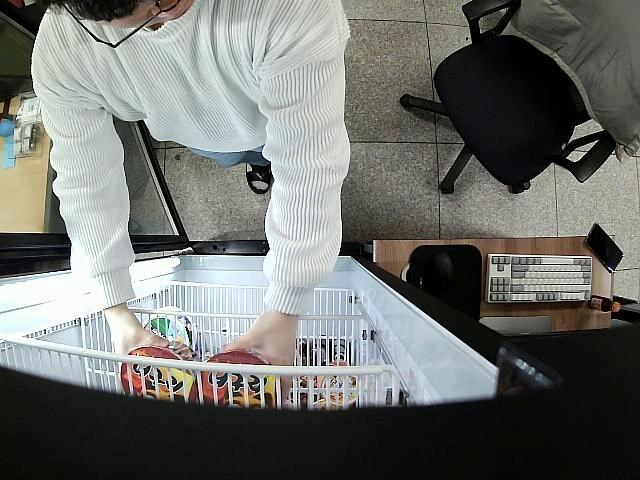05_nuguri_L: (120, 342, 198, 405), (202, 353, 279, 410)
